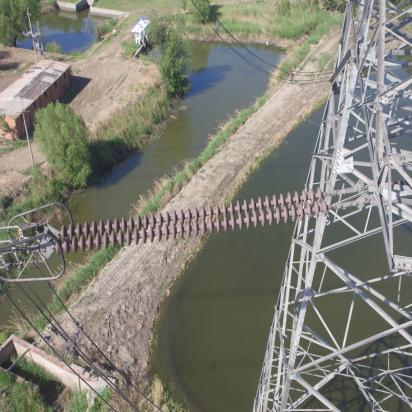insulator: (48, 186, 345, 256)
